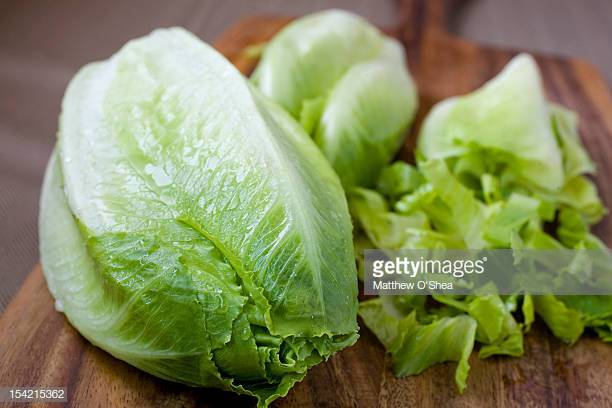chopped lettuce: (81, 62, 307, 379), (364, 67, 576, 228)
